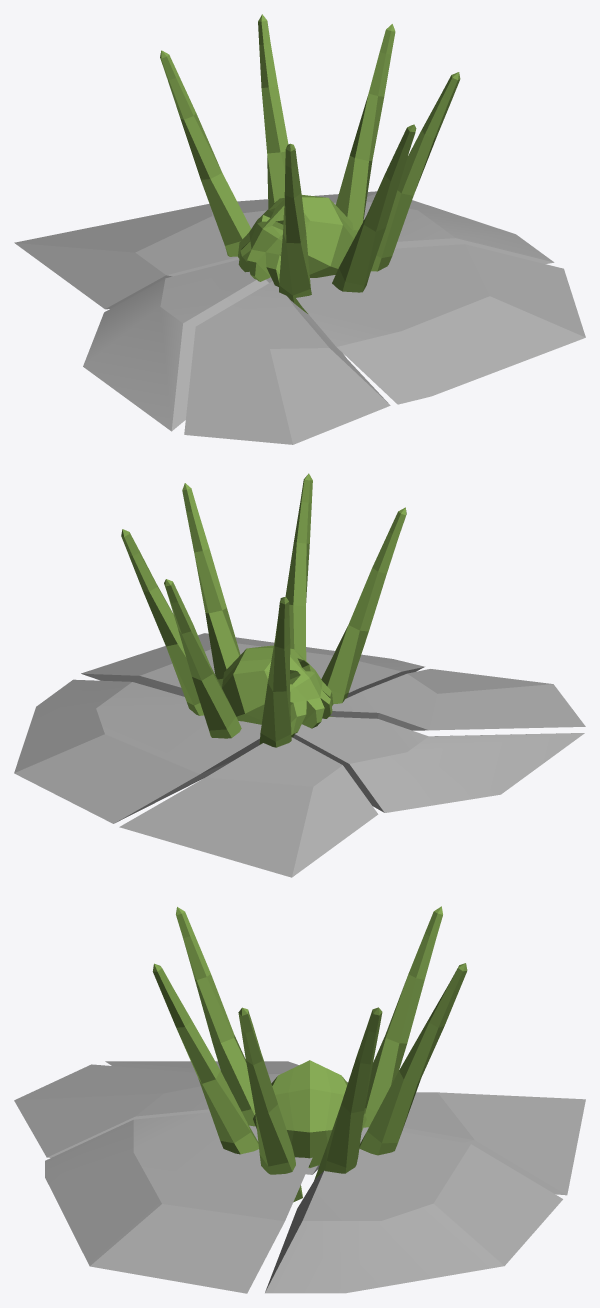
The model's file is Kraken.fbx.
3 views of the same model, one above another, from view 1: azimuth 30°, elevation 25°; view 2: azimuth 150°, elevation 25°; view 3: azimuth 270°, elevation 25° (orthographic). The views are drawn at different scales.
Visible parts, largest first — view 1: GroundPiece3, GroundPiece2, GroundPiece1, GroundPiece4, kraken_head, GroundPiece5, tentacle6, tentacle4, tentacle2, tentacle3, tentacle1, tentacle5; view 2: GroundPiece5, GroundPiece4, GroundPiece1, GroundPiece2, kraken_head, GroundPiece3, tentacle1, tentacle3, tentacle5, tentacle6, tentacle4, tentacle2; view 3: GroundPiece3, GroundPiece5, GroundPiece4, GroundPiece2, kraken_head, tentacle5, tentacle2, tentacle6, tentacle1, tentacle3, tentacle4, GroundPiece1.
Boxes of the visible parts, <box> form: GroundPiece3: <box>296,244,585,404</box>; GroundPiece2: <box>184,281,390,444</box>; GroundPiece1: <box>83,259,272,431</box>; GroundPiece4: <box>14,203,271,309</box>; kraken_head: <box>238,195,354,286</box>; GroundPiece5: <box>237,191,554,263</box>; tentacle6: <box>160,50,250,256</box>; tentacle4: <box>336,24,395,237</box>; tentacle2: <box>332,124,416,292</box>; tentacle3: <box>371,72,460,271</box>; tentacle1: <box>279,143,311,313</box>; tentacle5: <box>258,14,288,208</box>; GroundPiece5: <box>14,679,261,823</box>; GroundPiece4: <box>119,737,378,877</box>; GroundPiece1: <box>293,717,584,812</box>; GroundPiece2: <box>330,669,585,730</box>; kraken_head: <box>222,645,333,737</box>; GroundPiece3: <box>81,633,424,697</box>; tentacle1: <box>321,507,406,716</box>; tentacle3: <box>182,483,240,687</box>; tentacle5: <box>164,579,241,738</box>; tentacle6: <box>259,597,291,747</box>; tentacle4: <box>121,529,203,715</box>; tentacle2: <box>285,473,312,660</box>; GroundPiece3: <box>45,1112,312,1293</box>; GroundPiece5: <box>265,1127,562,1293</box>; GroundPiece4: <box>402,1092,585,1195</box>; GroundPiece2: <box>14,1064,209,1157</box>; kraken_head: <box>253,1060,366,1168</box>; tentacle5: <box>359,963,467,1155</box>; tentacle2: <box>152,963,258,1154</box>; tentacle6: <box>363,906,442,1127</box>; tentacle1: <box>176,907,255,1126</box>; tentacle3: <box>238,1007,302,1202</box>; tentacle4: <box>314,1007,382,1180</box>; GroundPiece1: <box>105,1061,347,1174</box>.
Size of the model in its own units: 4.82 by 2.26 by 5.02.
